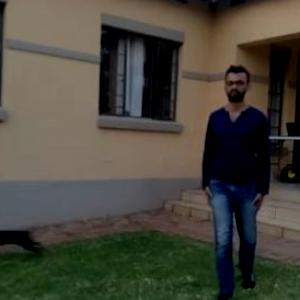follow: (198, 72, 267, 287)
